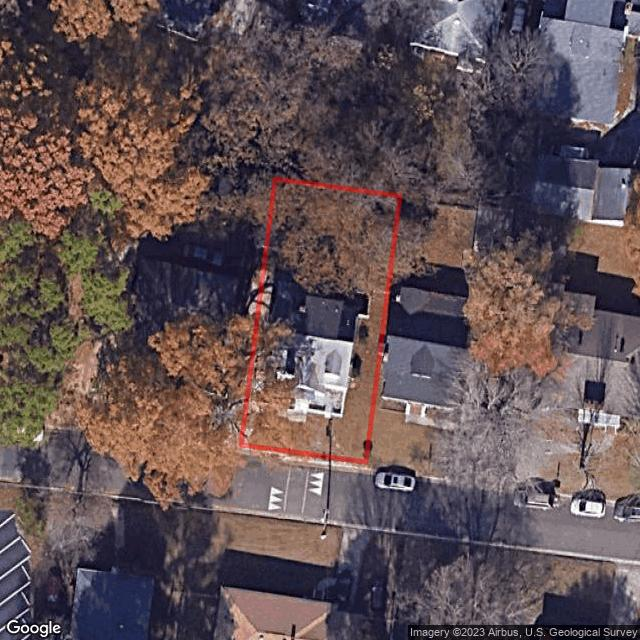House: (254, 257, 362, 425)
